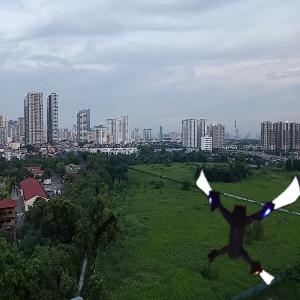drone: (180, 159, 300, 279)
